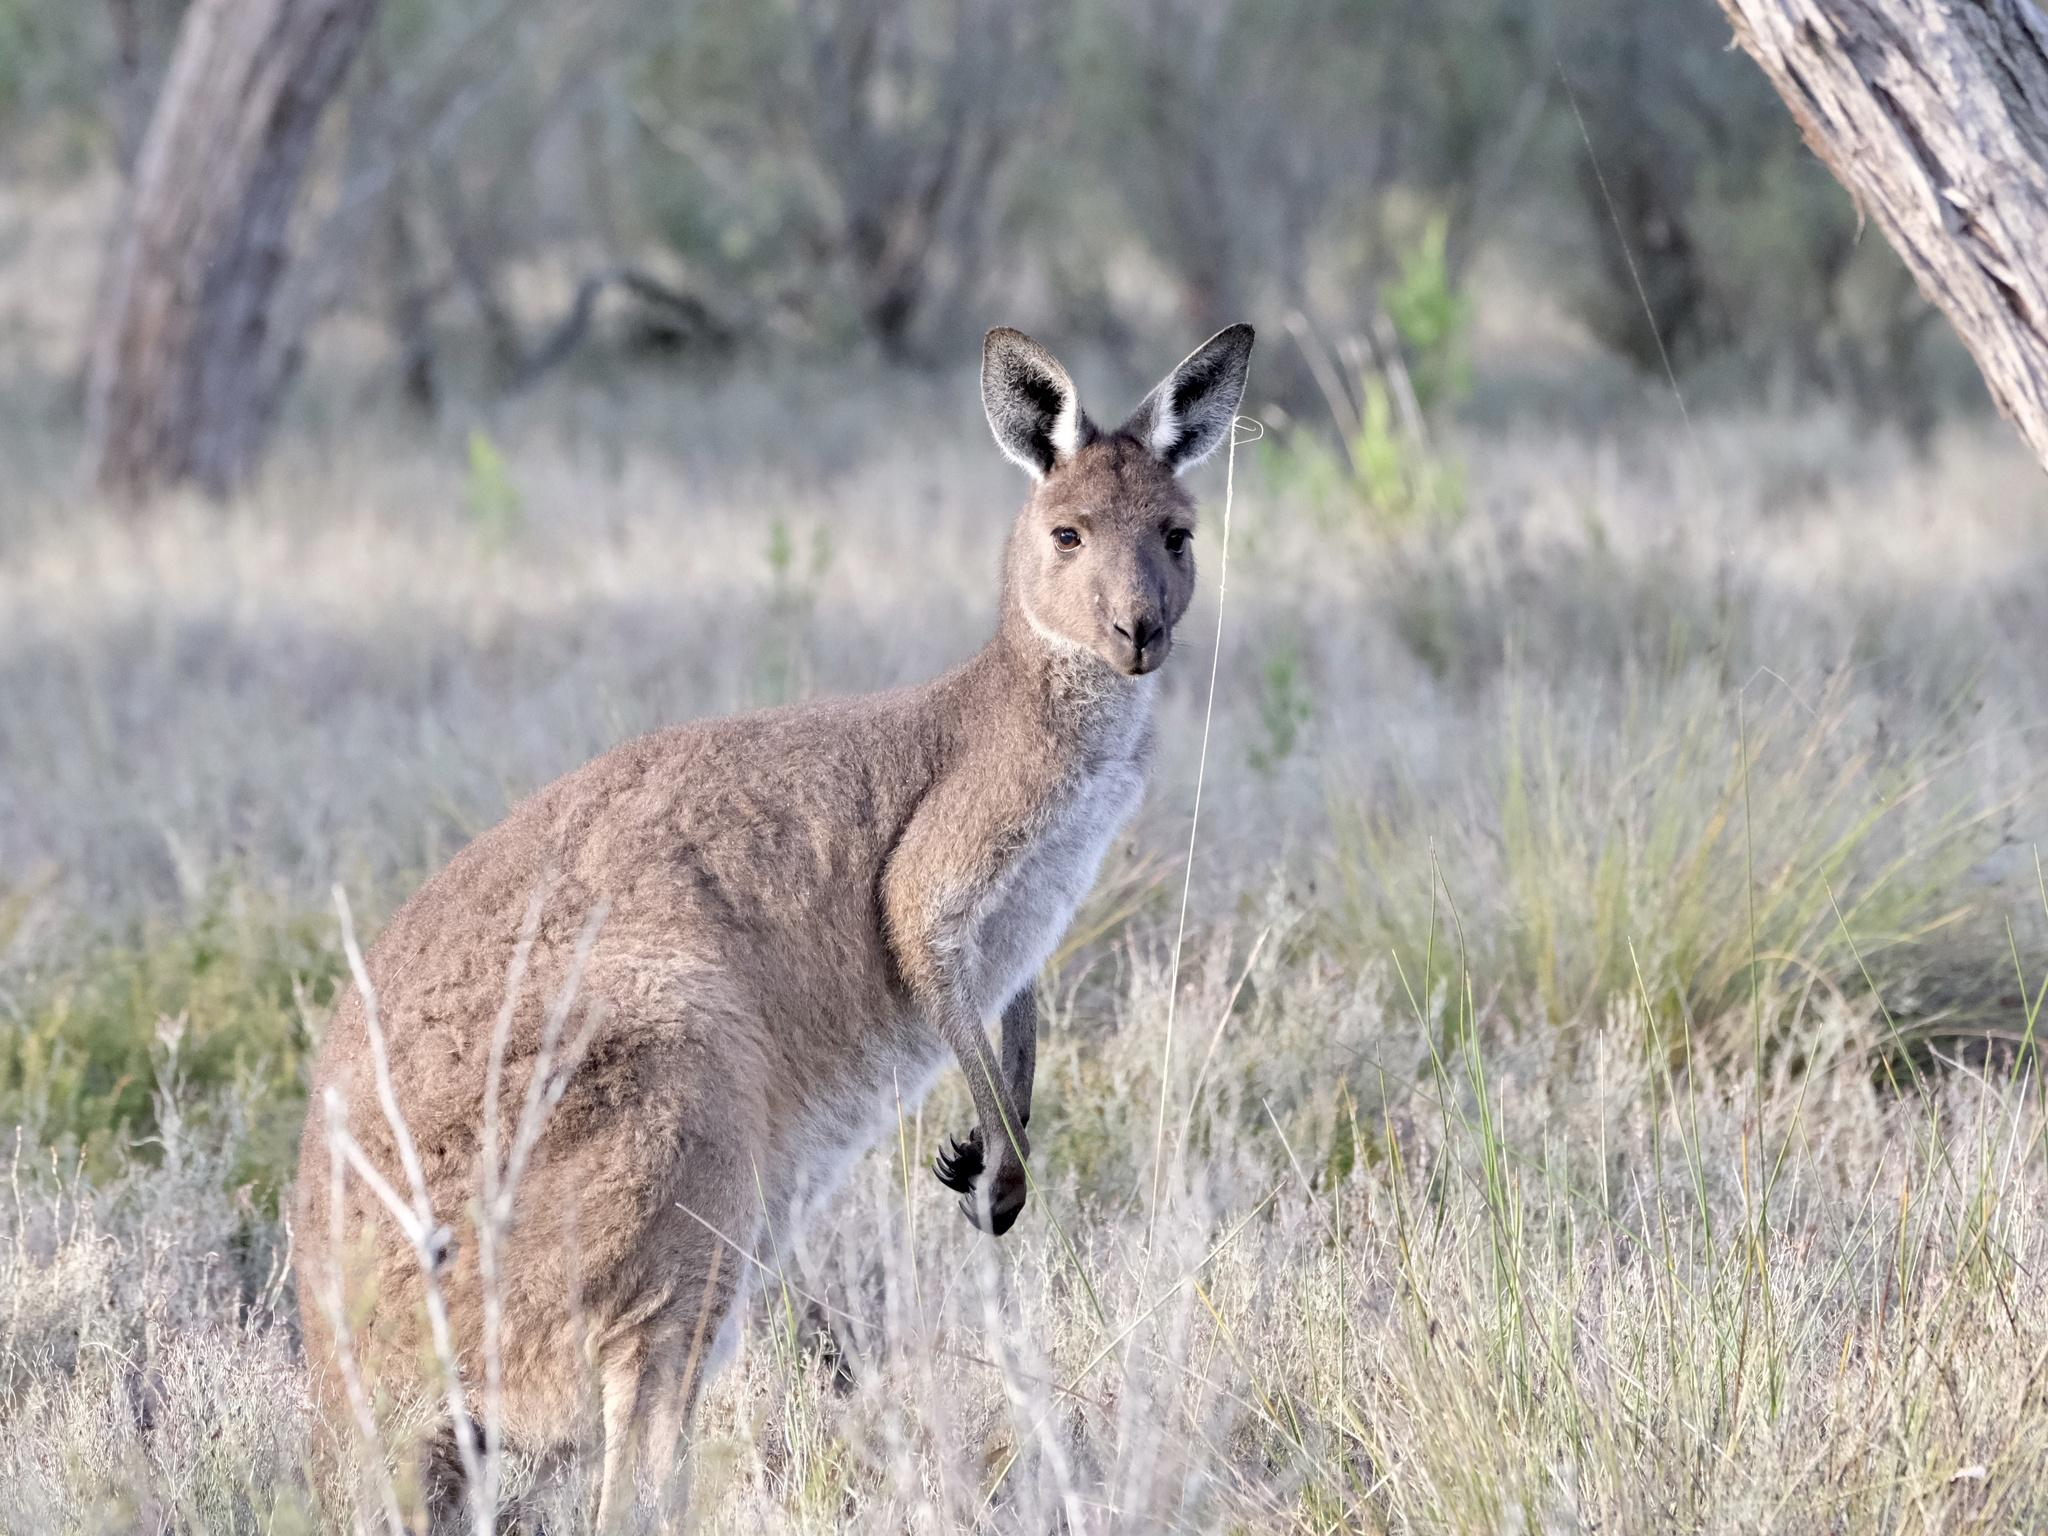Western grey kangaroo: (211, 319, 1232, 1523)
